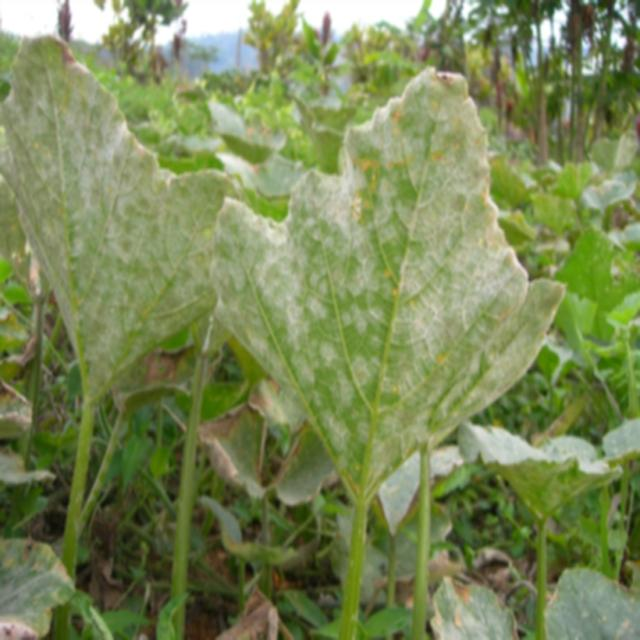Powdery Mildew: (5, 55, 634, 399)
